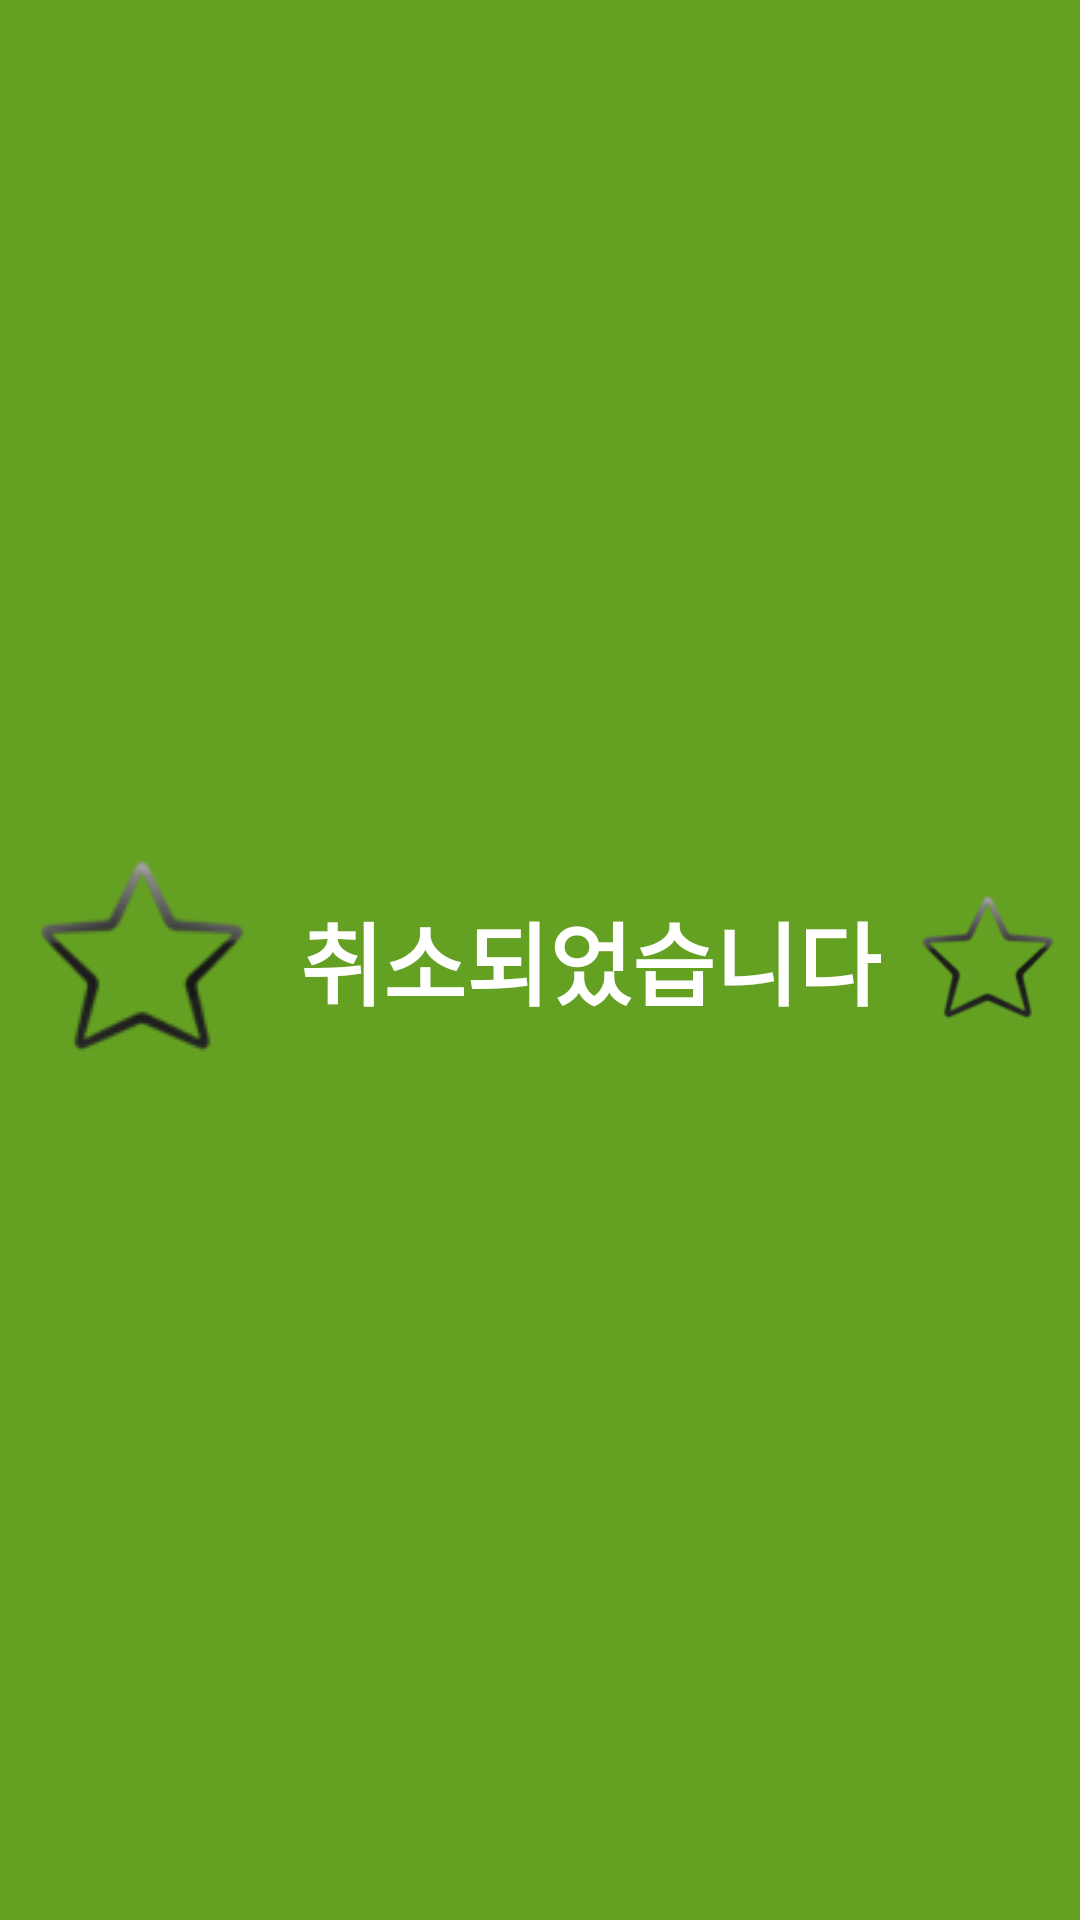

Icons on this 1080 x 1920 Android screen, each with the point to tap as (x,y):
star: (142,955), (988,957)
